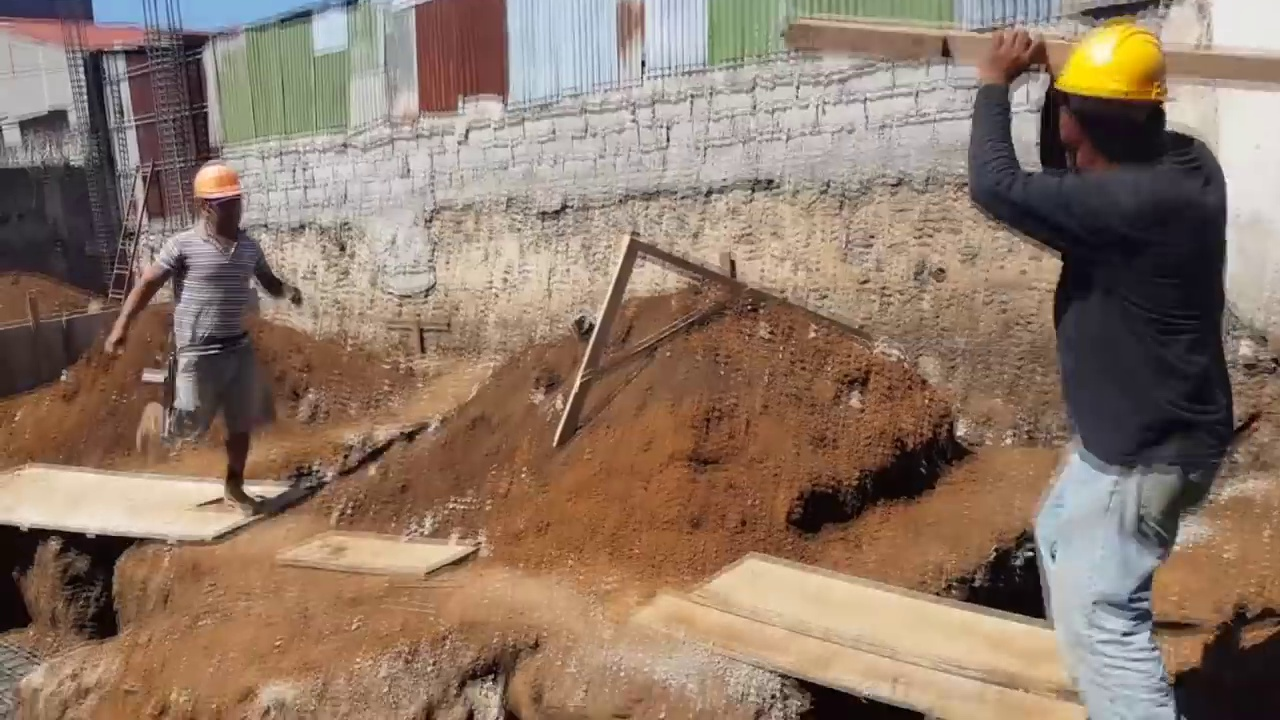helmet: (1058, 24, 1178, 116), (189, 160, 249, 204)
helmet-on: (1058, 17, 1181, 173), (187, 160, 242, 238)
person: (969, 4, 1244, 720), (110, 145, 276, 501), (973, 1, 1074, 207)
